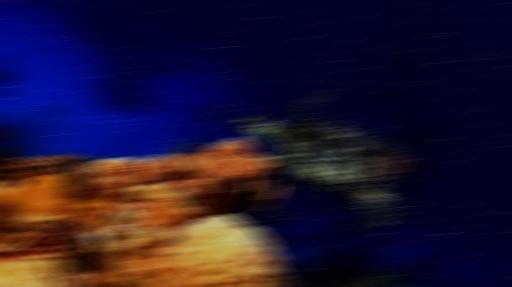Fish: (235, 88, 422, 228)
